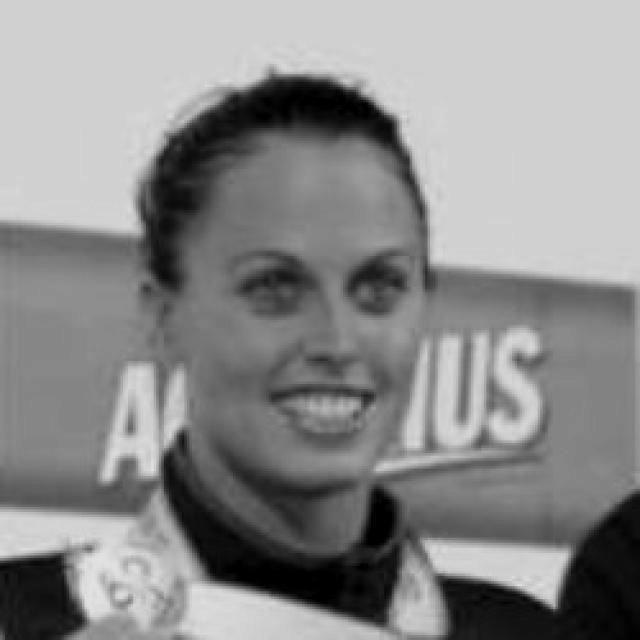real: (152, 88, 460, 518), (235, 243, 418, 325)
